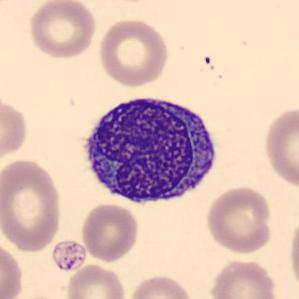Monocyte: (76, 88, 222, 212)
Platelets: (50, 238, 88, 273)
RBC: (0, 156, 65, 254), (96, 17, 170, 89), (203, 183, 274, 256), (26, 0, 98, 60), (79, 201, 141, 263), (262, 104, 298, 190), (208, 257, 280, 299), (63, 261, 127, 299), (0, 94, 30, 166), (127, 272, 196, 299), (0, 237, 25, 299), (287, 212, 299, 294), (6, 293, 71, 299)
